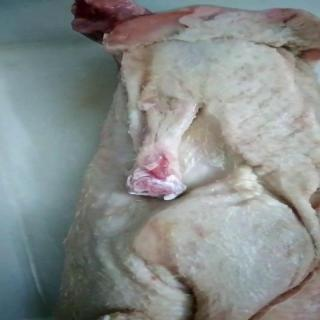Ayam: (56, 1, 320, 320)
